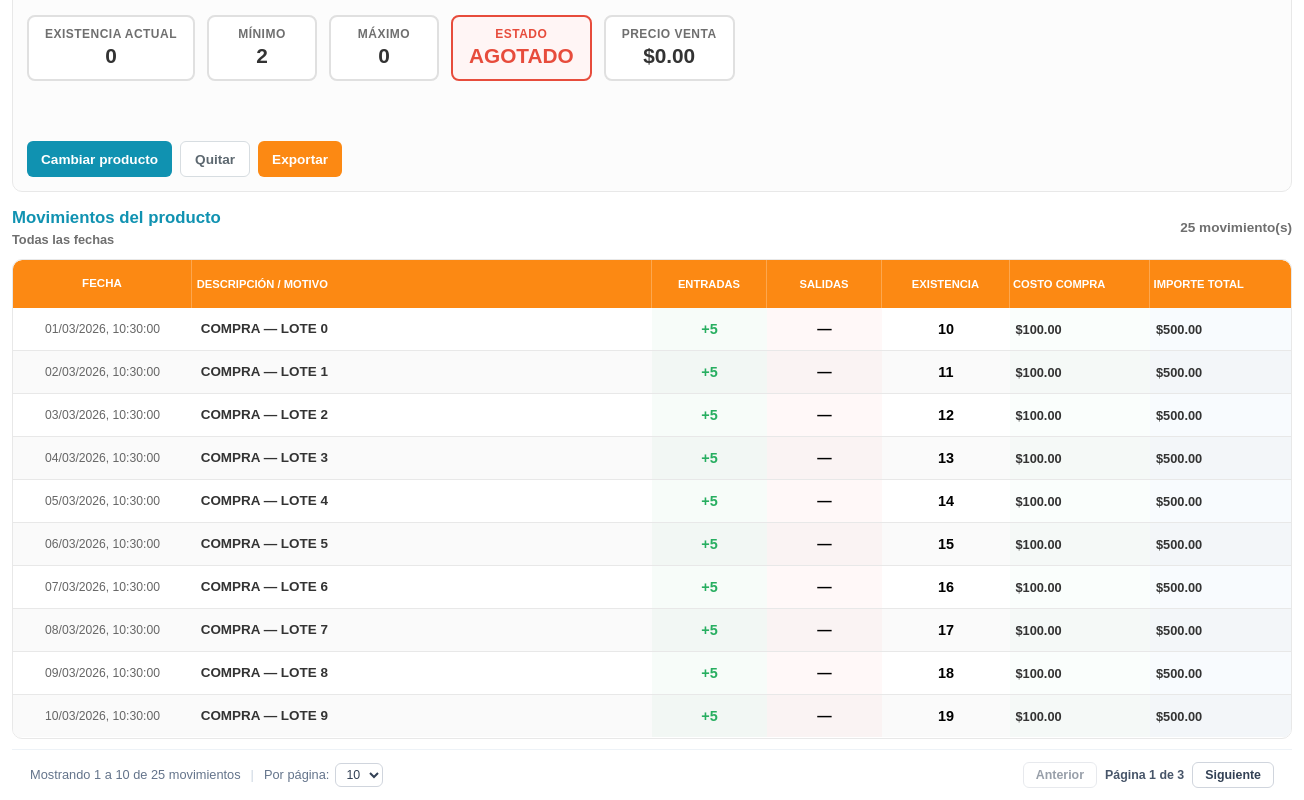
Test: KardexProductPanel › muestra la ultima pagina parcial
Click the button "Siguiente". click: (1233, 775)
box: [1192, 762, 1274, 788]
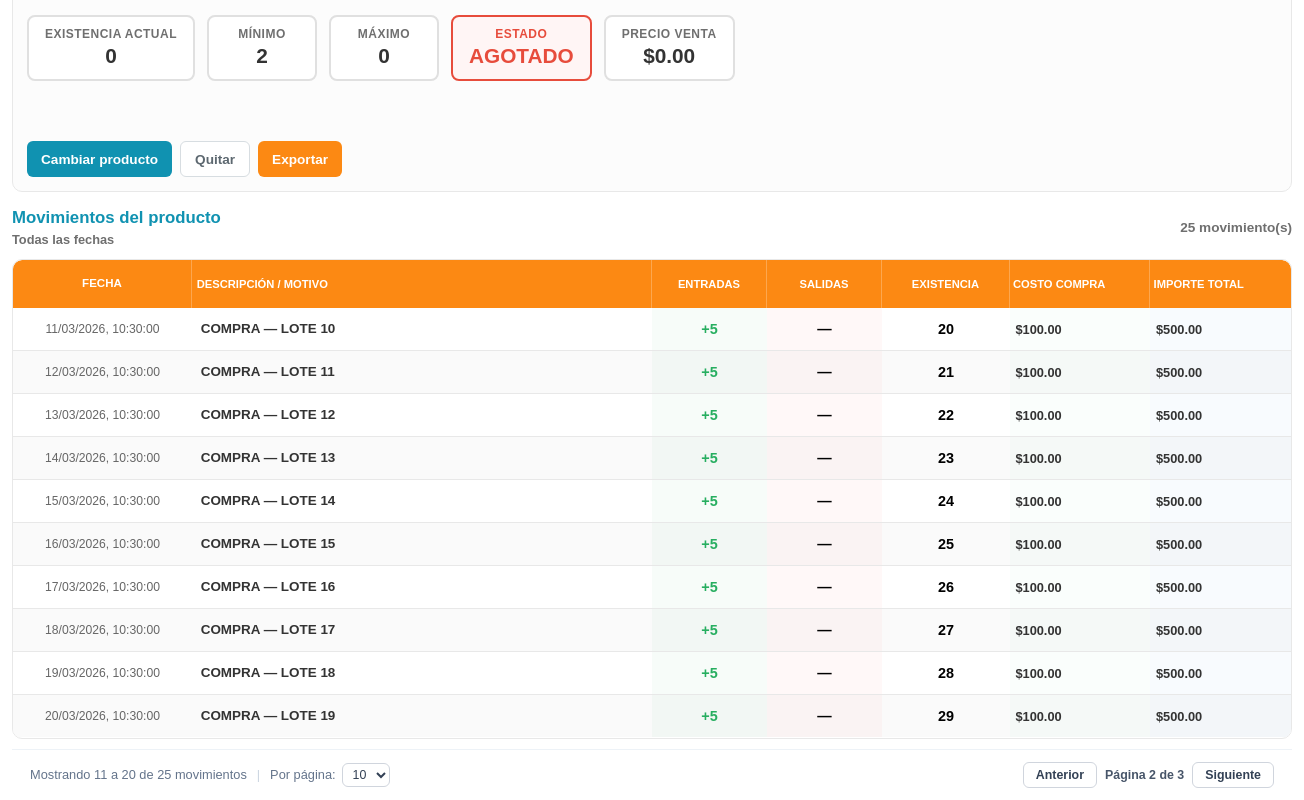
Click the button "Siguiente". click: (1233, 775)
box: [1192, 762, 1274, 788]
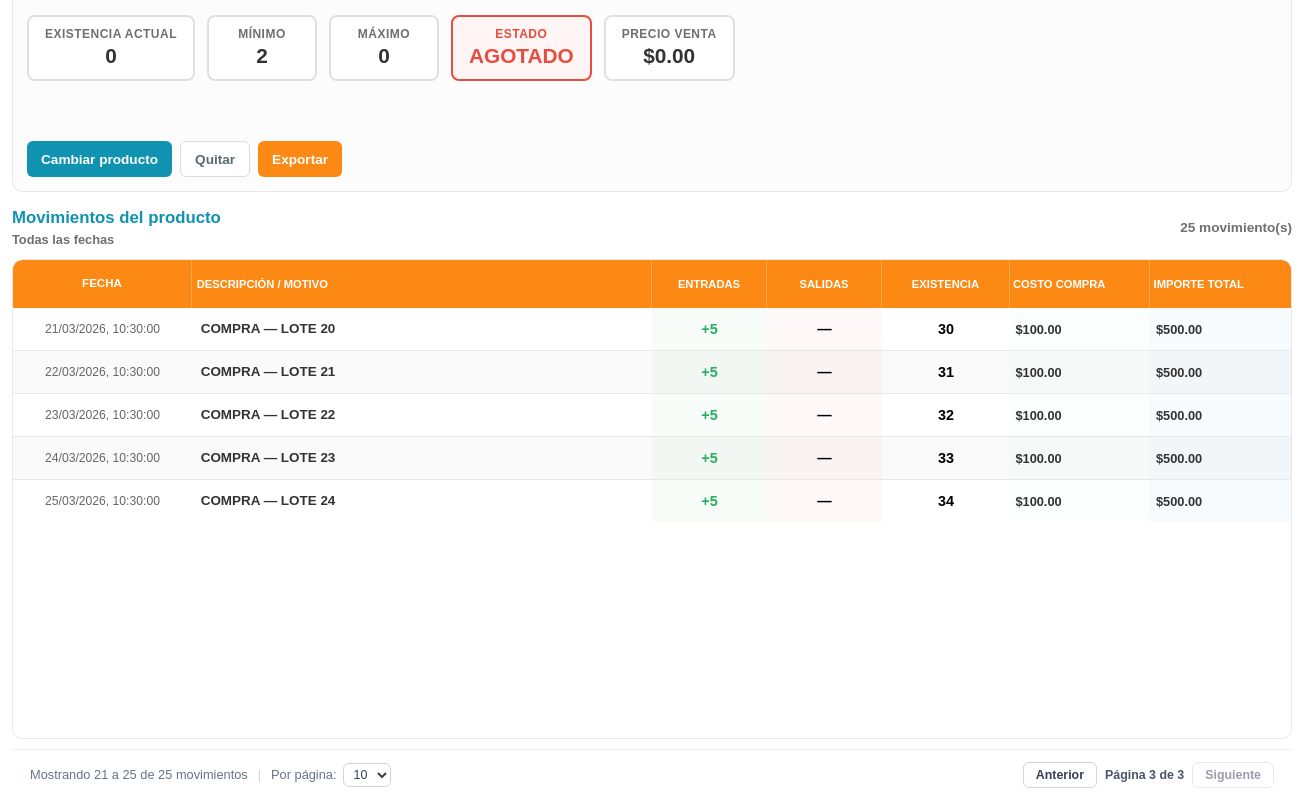
Expected: the text "Página 3 de 3" is shown, [1105, 768, 1184, 782]
Expected: the text "COMPRA — LOTE 20" is shown, [192, 308, 652, 351]
Expected: the text "Mostrando 21 a 25 de 25 movimientos" is shown, [30, 767, 248, 782]
